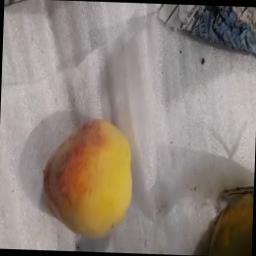Peach Unripe: (32, 108, 150, 245)
